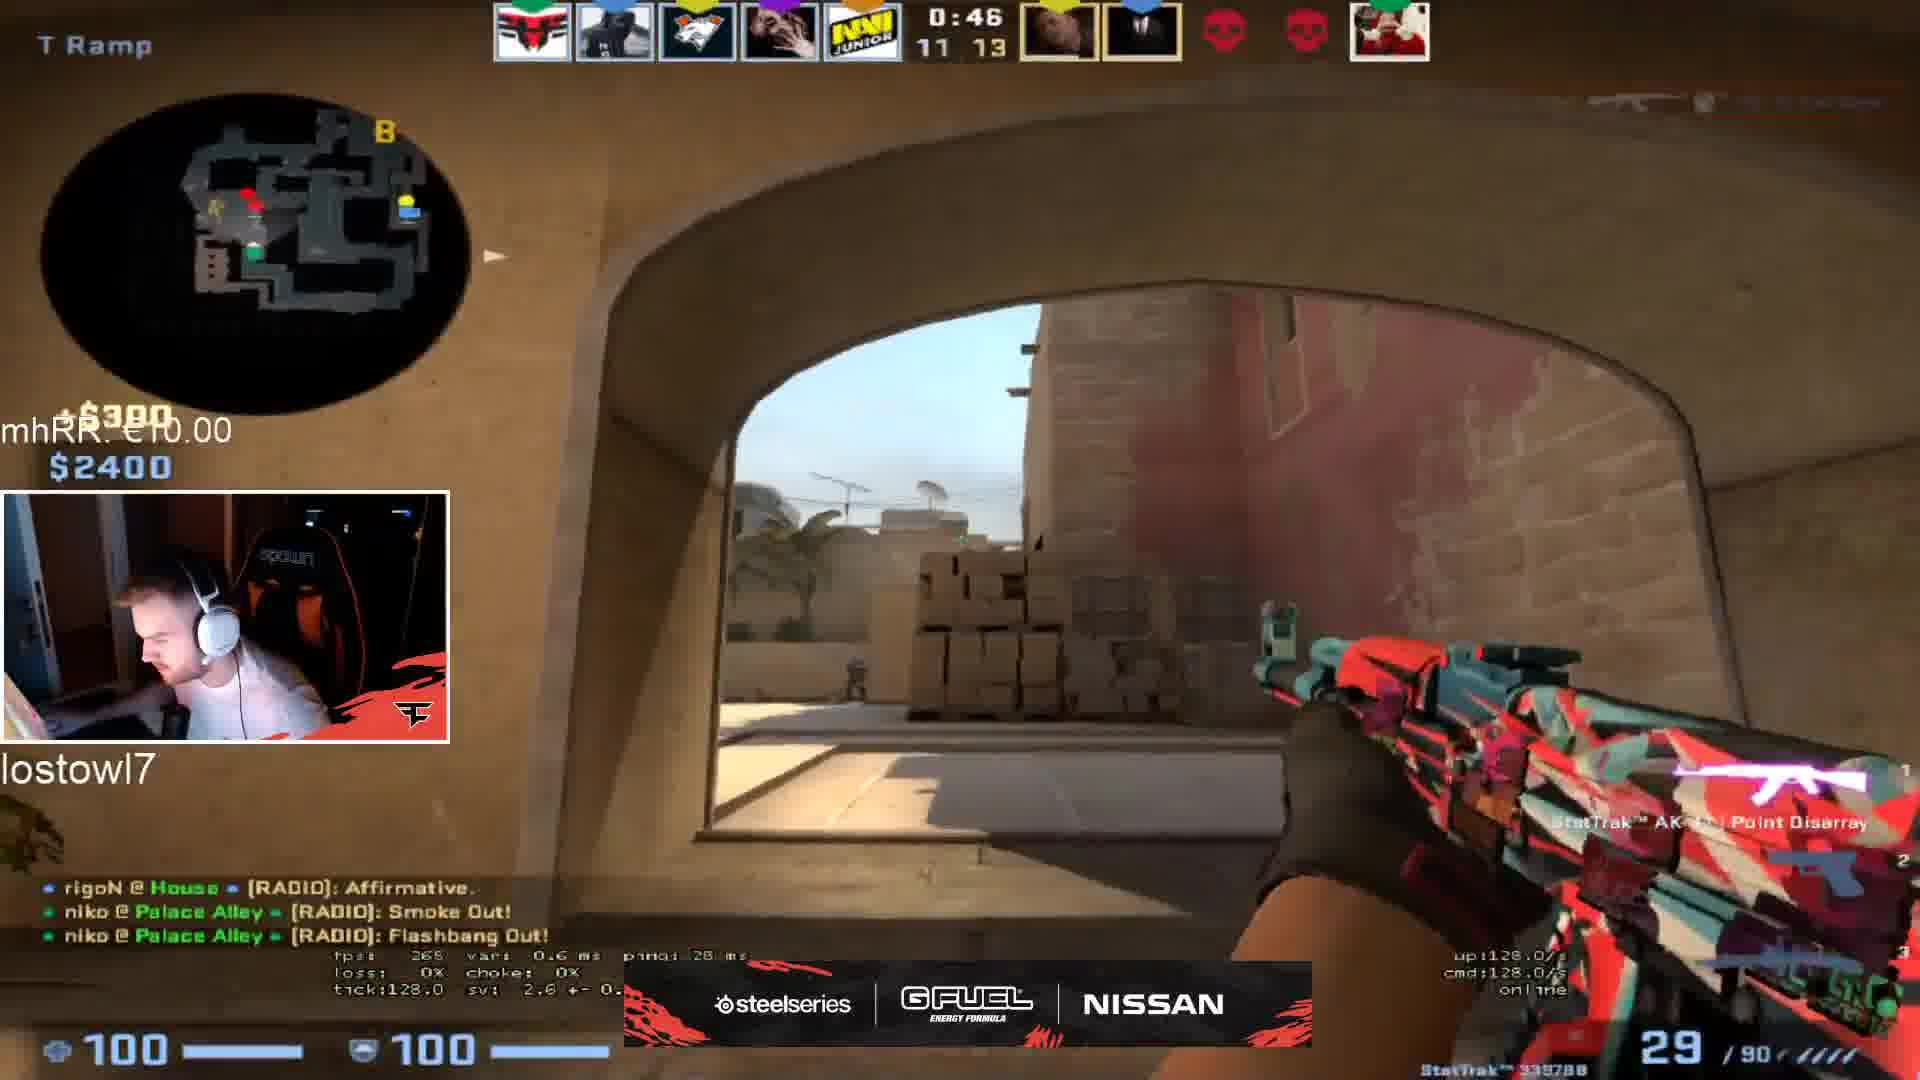enemy: (841, 651, 872, 707)
